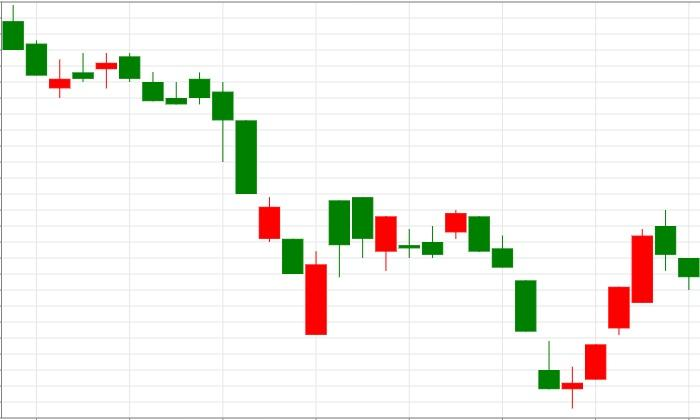three_black_crows_fall: (305, 197, 537, 335)
three_white_soldiers_rise: (445, 210, 631, 408)
